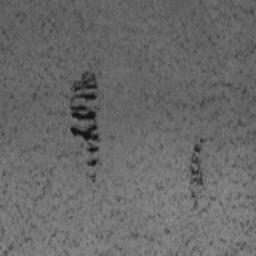Secondary rust skin: (70, 69, 99, 168)
